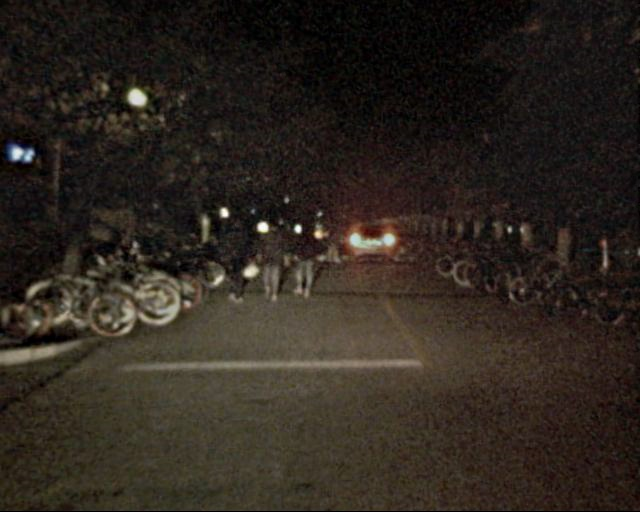person: (222, 215, 254, 306), (257, 221, 285, 304), (294, 214, 320, 300), (325, 222, 344, 268)
